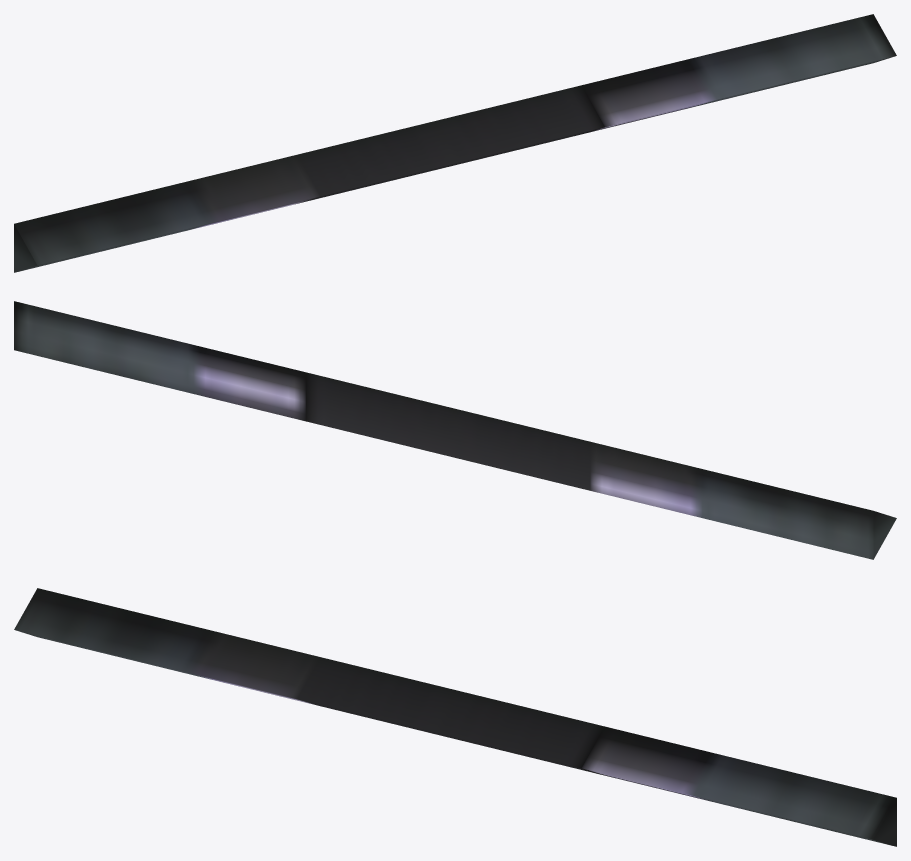
3 views of the same model, one above another, from view 1: azimuth 30°, elevation 25°; view 2: azimuth 150°, elevation 25°; view 3: azimuth 330°, elevation 25° (orthographic).
Parts seen in each view (by area): view 1: Cylinder18; view 2: Cylinder18; view 3: Cylinder18.
Part boxes in pixels (left/top/right/bottom): Cylinder18: left=14, top=14, right=896, bottom=272; Cylinder18: left=14, top=301, right=896, bottom=559; Cylinder18: left=14, top=588, right=896, bottom=846.
Size of the model in its own units: 125 by 6.84 by 5.93.
Materials: 1 (1 with a texture image).
